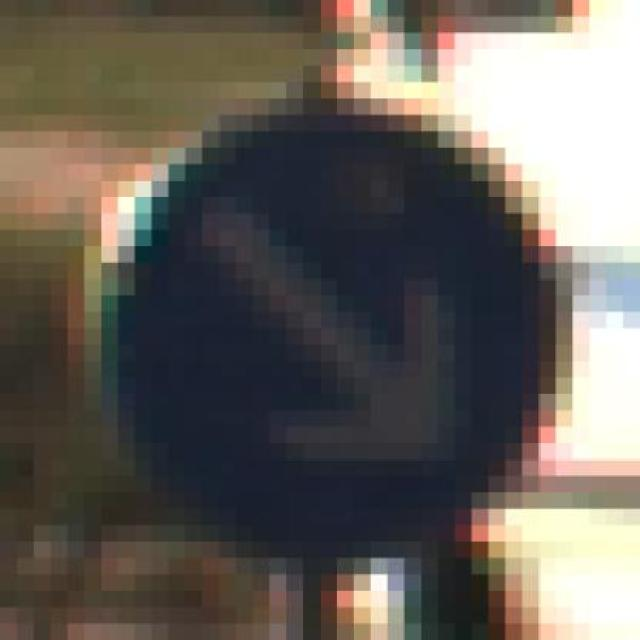Keep-Right: (67, 66, 607, 574)
